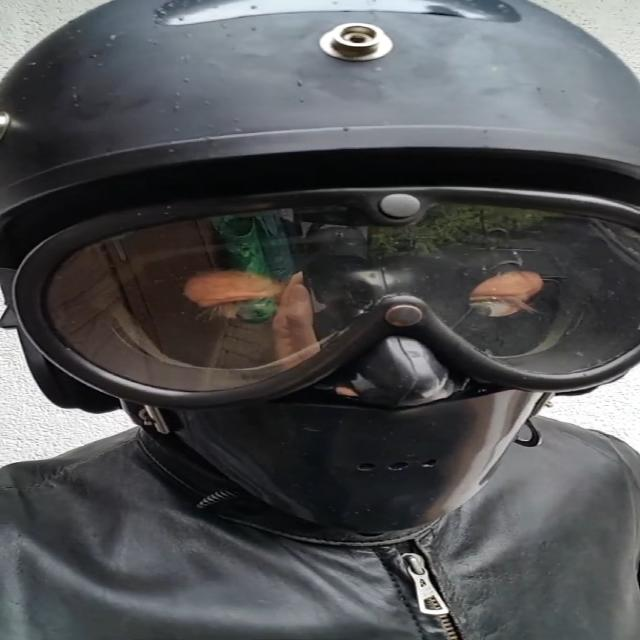Helmet_Wearer: (0, 0, 640, 548)
Jacket_Wearer: (0, 392, 640, 640)
Person: (0, 0, 640, 640)
